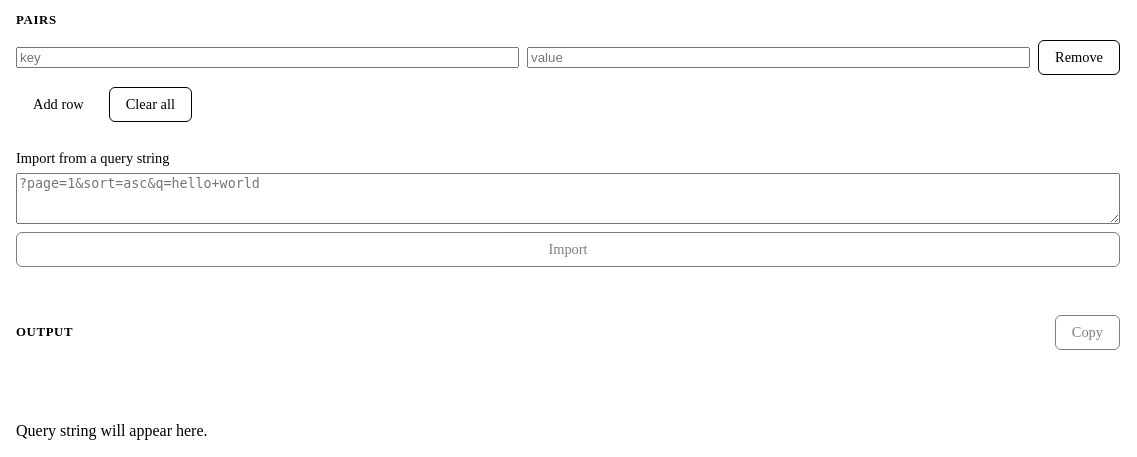
QueryStringBuilderTool › lets the user add rows and assembles the query string
Type "a" into the field named "Key 1".
click(268, 58); type("a")  # box [16,47,519,68]
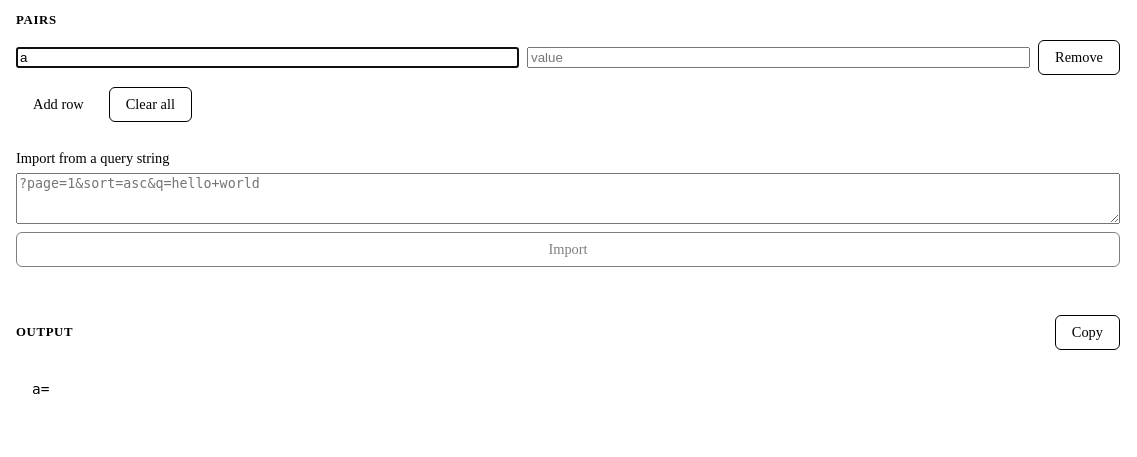
Type "1" into the field named "Value 1".
click(778, 58); type("1")  # box [527,47,1030,68]
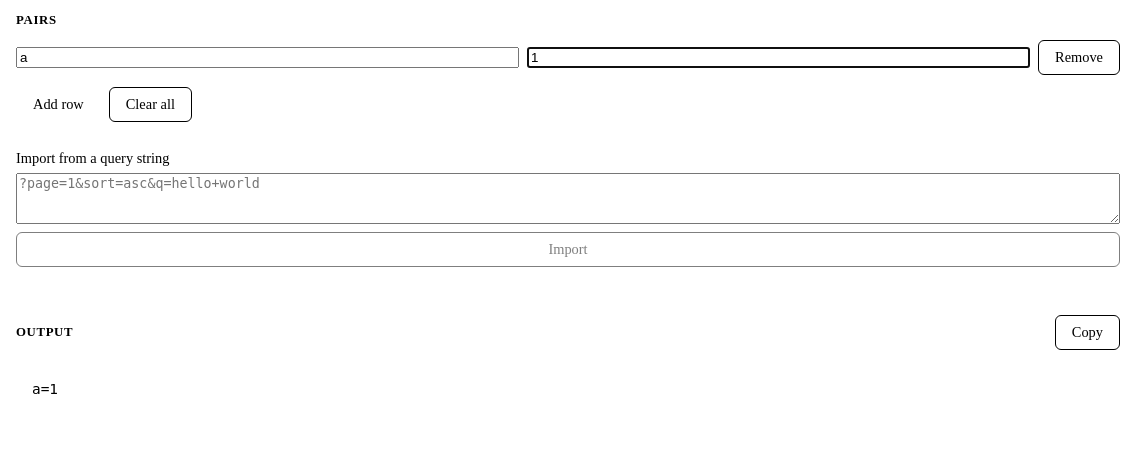
expect the text with test id "query-string-output" reads "a=1": met, box [32,381,58,397]
Click the button "Add row".
click(58, 104)  # box [16,87,101,122]
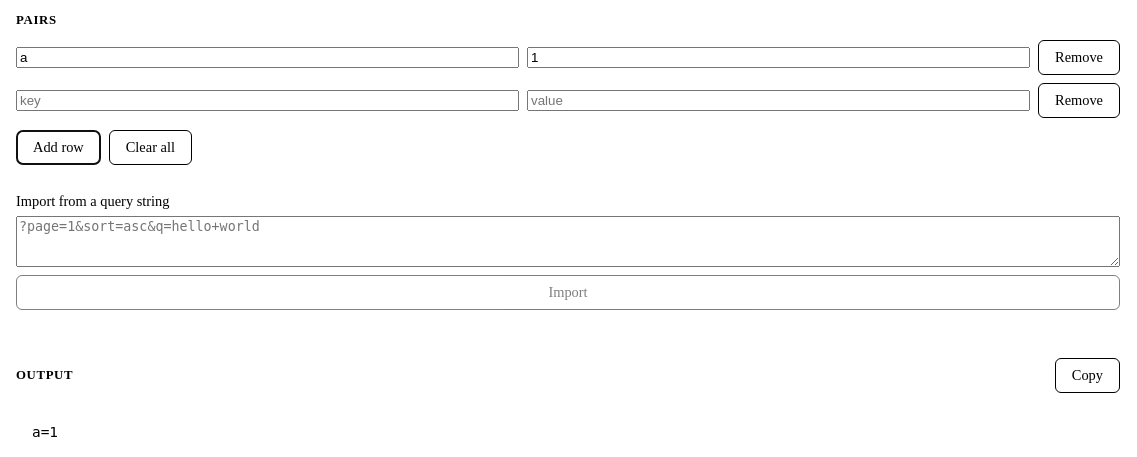
Type "q" into the field named "Key 2".
click(268, 100); type("q")  # box [16,90,519,111]
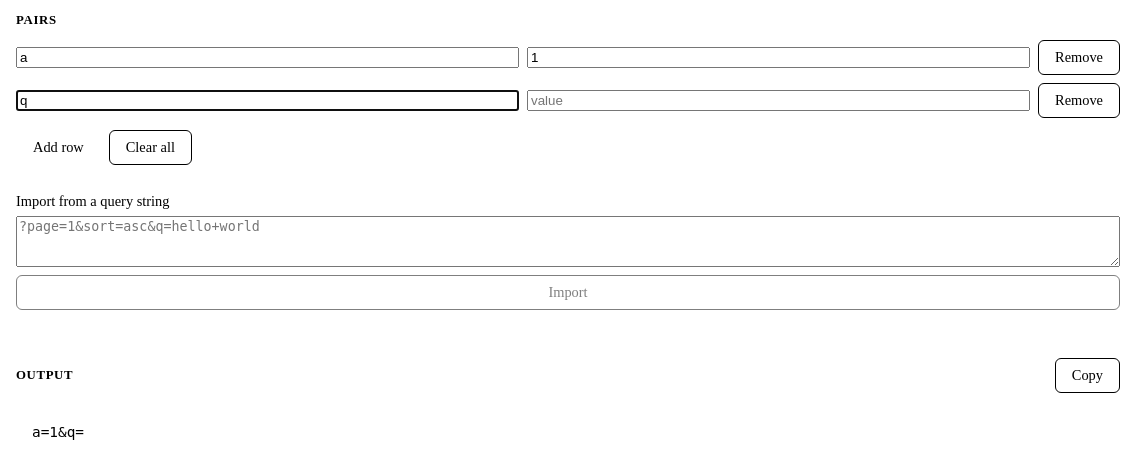
Type "hello world" into the field named "Value 2".
click(778, 100); type("hello world")  # box [527,90,1030,111]
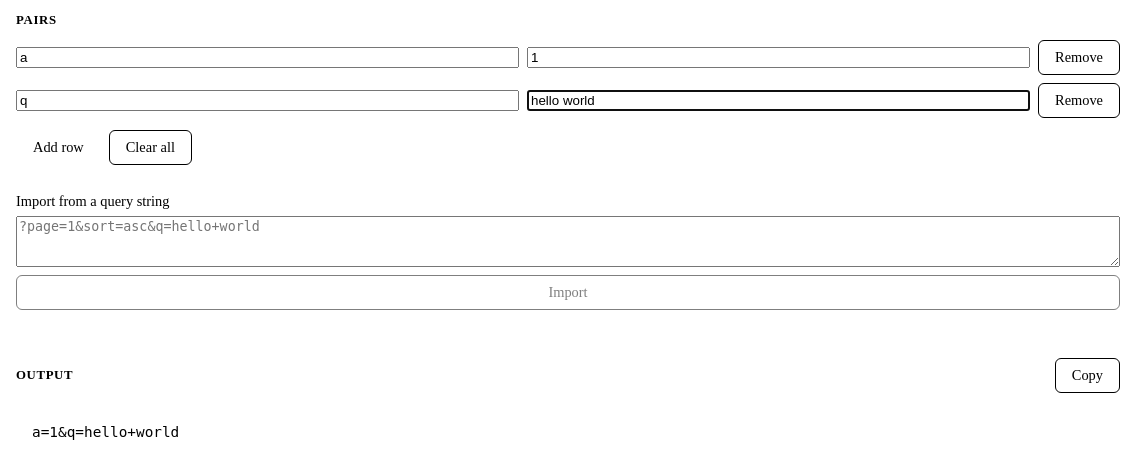
expect the button "Copy" is enabled: met, box [1055,358,1120,393]
expect the text with test id "query-string-output" reads "a=1&q=hello+world": met, box [32,424,179,440]
